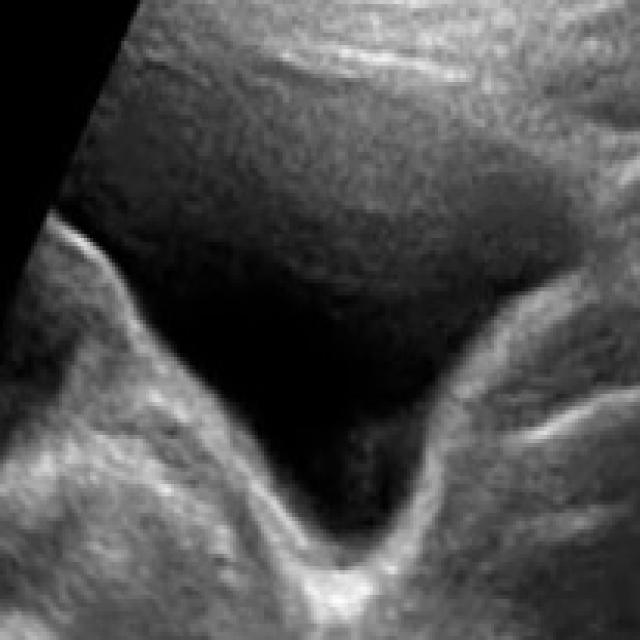bladder: (42, 0, 601, 587)
